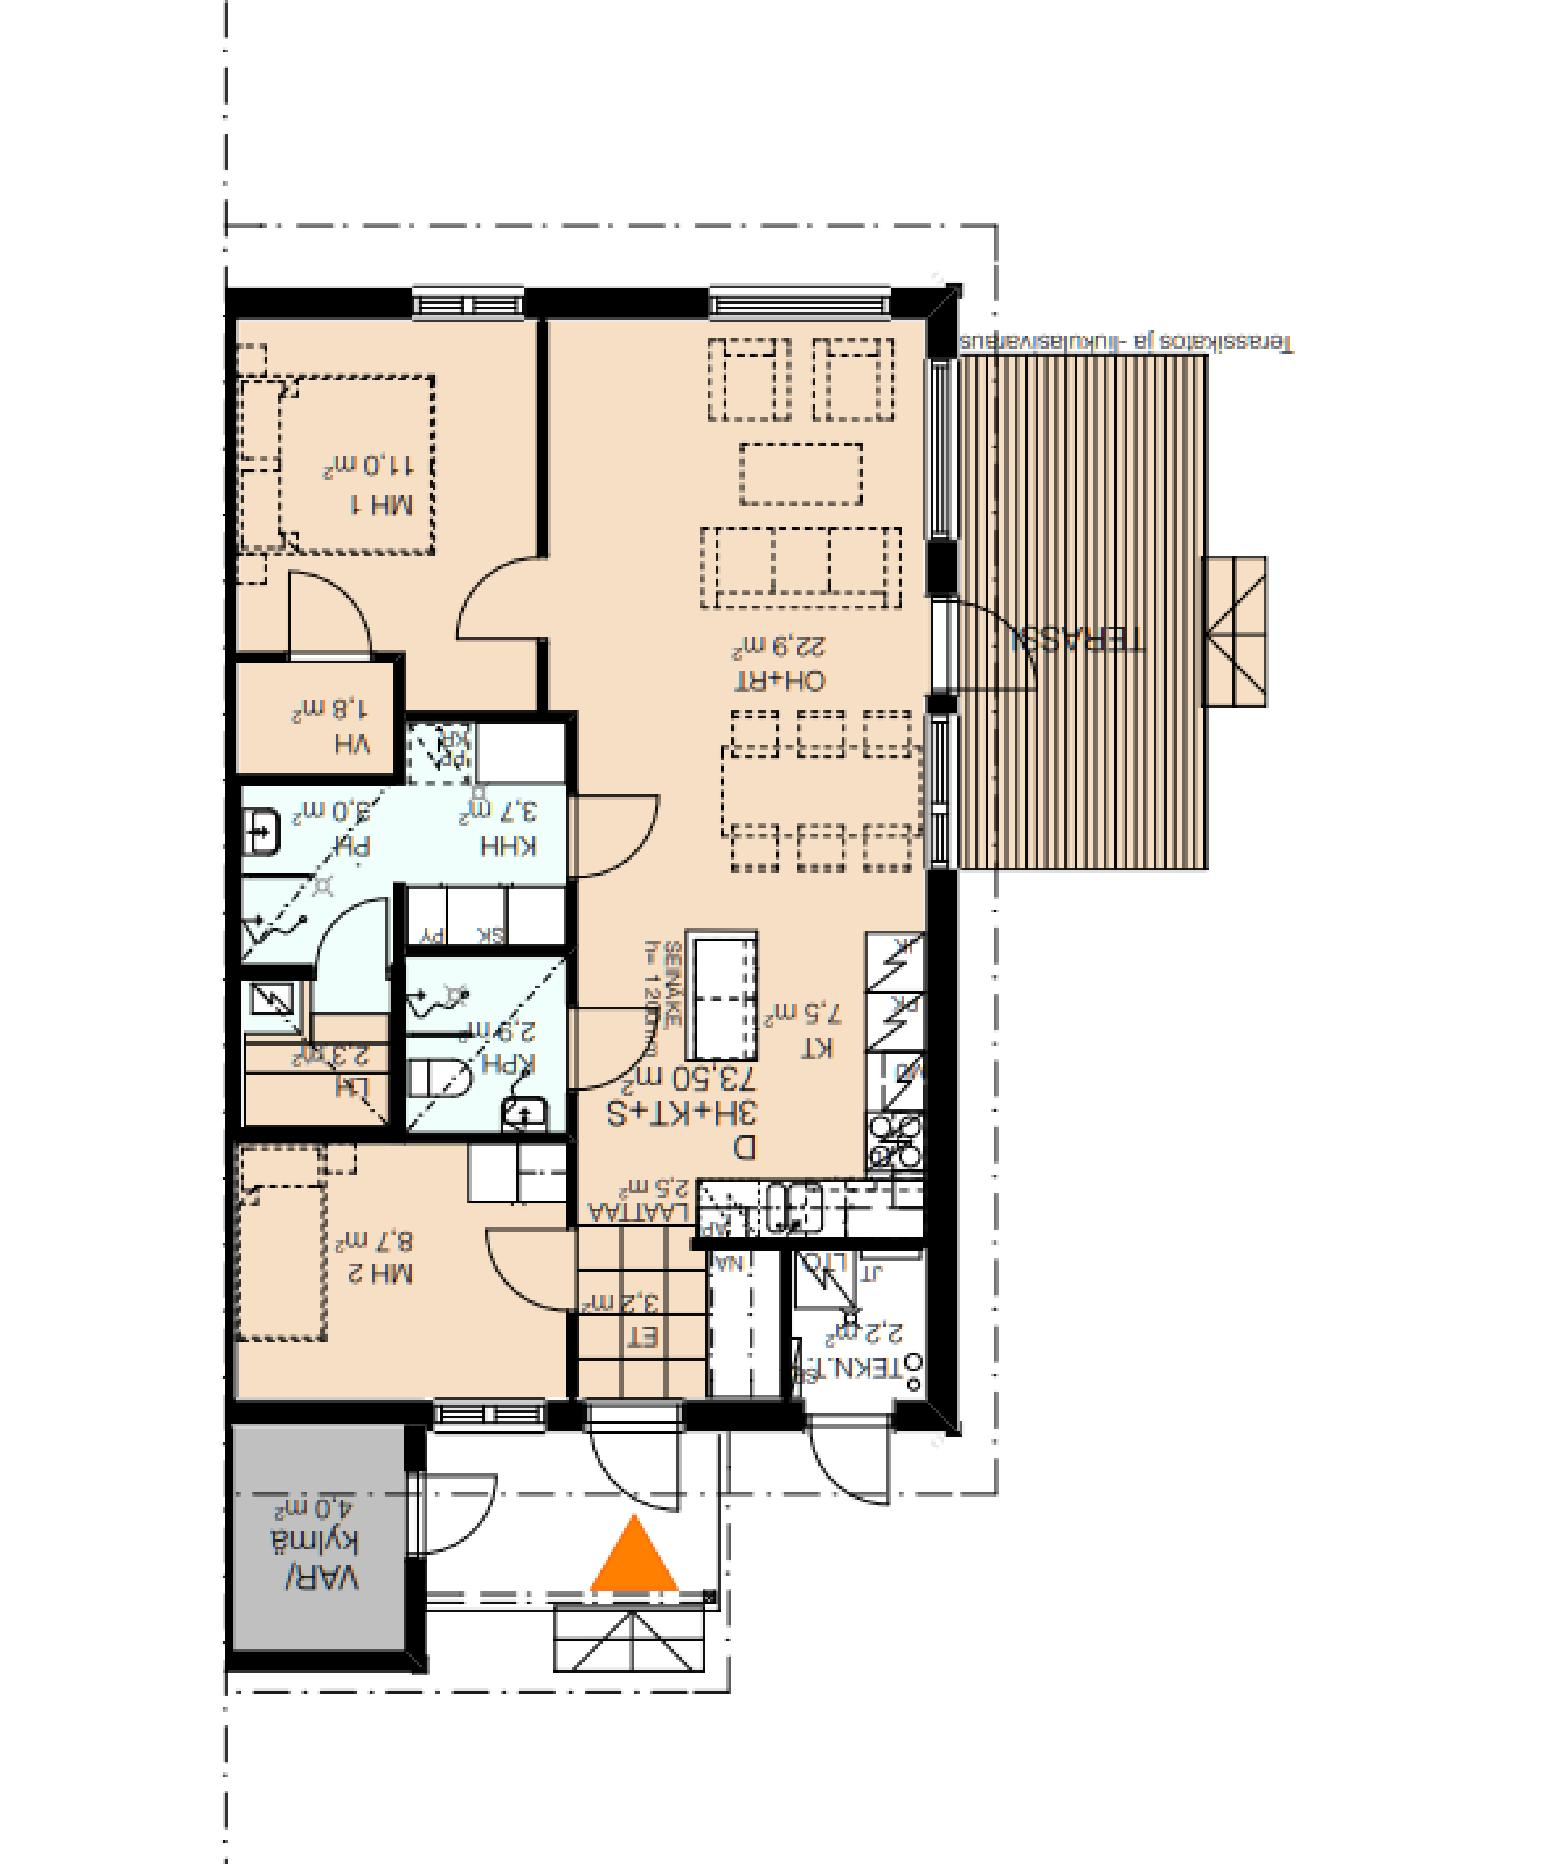door: (798, 1390, 897, 1509), (587, 1406, 689, 1520), (923, 599, 1049, 690), (483, 1228, 589, 1316), (291, 562, 372, 666), (445, 560, 555, 636), (403, 1472, 503, 1553), (564, 793, 666, 869), (568, 1008, 668, 1085), (304, 901, 386, 978)
window: (705, 285, 891, 317), (923, 365, 954, 533), (417, 286, 524, 324), (435, 1396, 544, 1427), (926, 726, 946, 865)
zone: (575, 320, 937, 1406), (239, 718, 575, 1132), (945, 353, 1197, 864), (229, 313, 539, 708), (231, 1133, 565, 1400), (229, 1423, 397, 1643), (229, 663, 390, 769), (1200, 557, 1265, 712)
